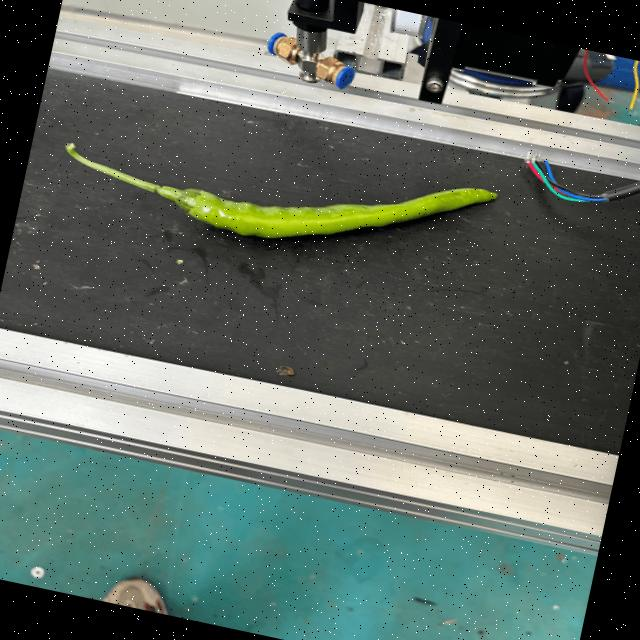chili: (169, 186, 499, 237)
